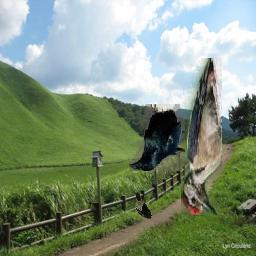Crow: (129, 105, 185, 172), (136, 191, 153, 219)
Woodpecker: (182, 59, 223, 216)
